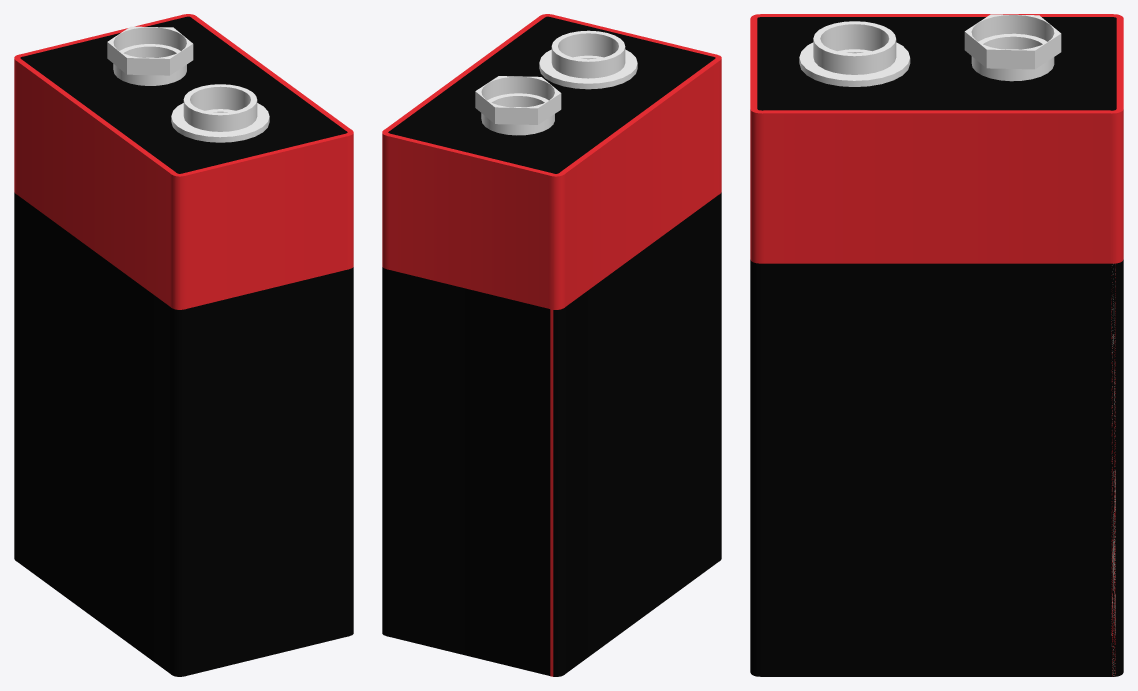
The model's file is strengthPowerPack.fbx.
3 views of the same model, side by side, from view 1: azimuth 30°, elevation 25°; view 2: azimuth 150°, elevation 25°; view 3: azimuth 270°, elevation 25° (orthographic). The views are drawn at different scales.
Parts seen in each view (by area): view 1: polySurface70; view 2: polySurface70; view 3: polySurface70.
Part boxes in pixels (<box>): polySurface70: <box>14,14,353,676</box>; polySurface70: <box>382,14,721,676</box>; polySurface70: <box>750,14,1123,676</box>.
Bounding box in the file's own units: 5.07 × 14.14 × 8.05.
5 materials, 4 textured.
